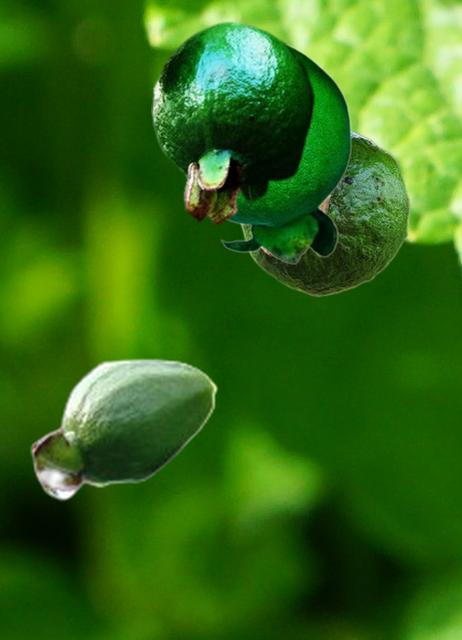guava: (185, 45, 351, 263), (151, 20, 315, 225), (238, 128, 410, 296), (30, 357, 217, 500)
